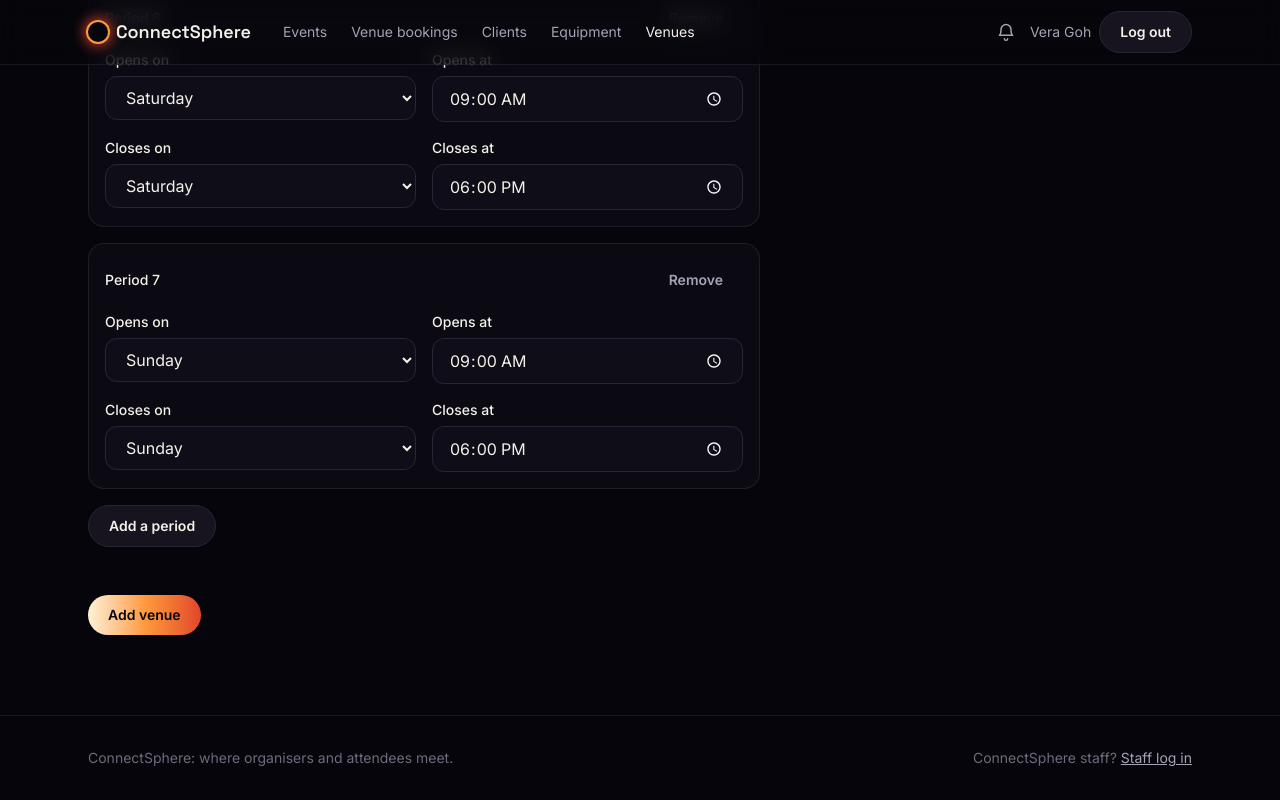
it: SCRUM-25 adding a venue › shows the backend messages under the fields it refused and moves to the first
(page scrolled)
Step 1. Click the button "Add venue" → click(144, 615), box [88,595,201,635]
(page scrolled)
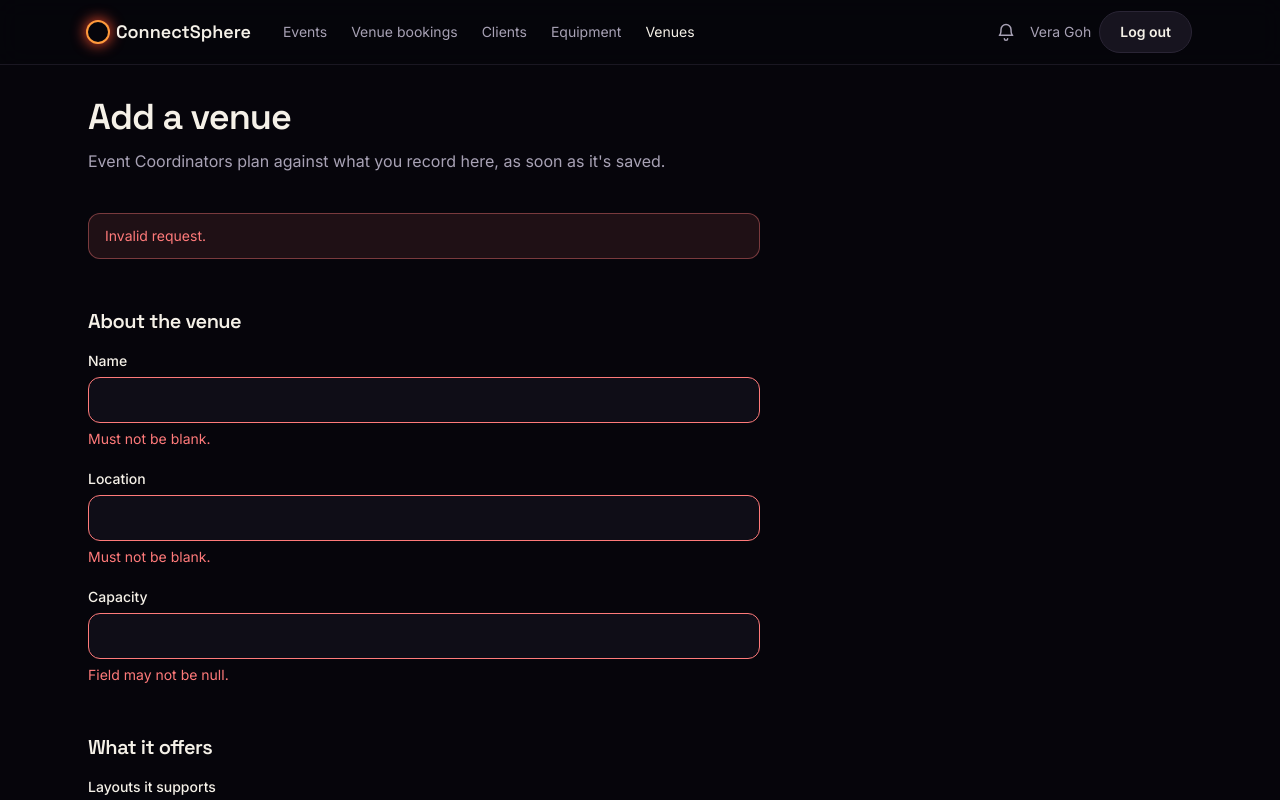
Check: the message reads "Invalid request.", box [105,227,206,244]
